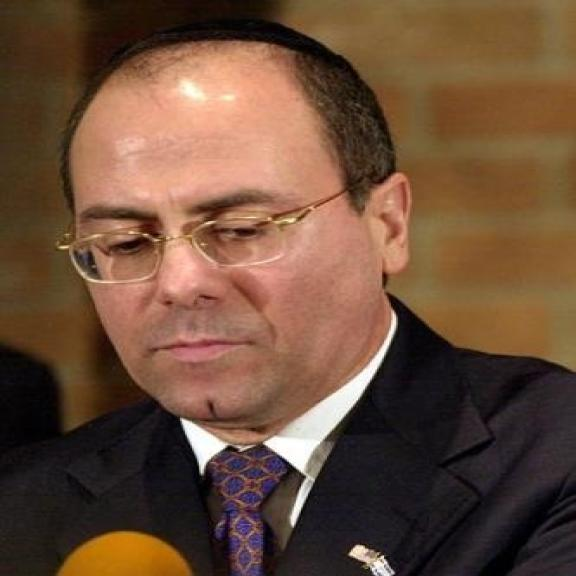face: (58, 52, 414, 432)
